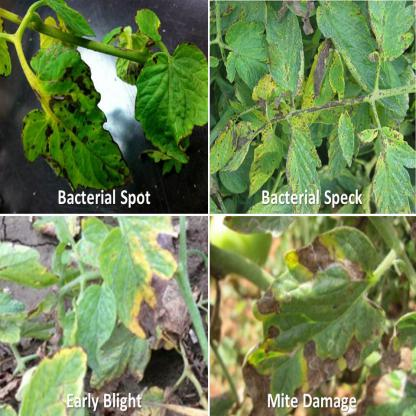Tomato Early blight leaf: (20, 222, 185, 413)
Tomato leaf bacterial spot: (20, 48, 131, 203), (123, 47, 207, 180), (318, 3, 403, 120), (354, 121, 416, 209), (278, 102, 325, 211), (260, 3, 309, 106), (332, 98, 363, 166), (326, 44, 348, 97)
Tomato two spotted spider mites leaf: (244, 233, 399, 402)
